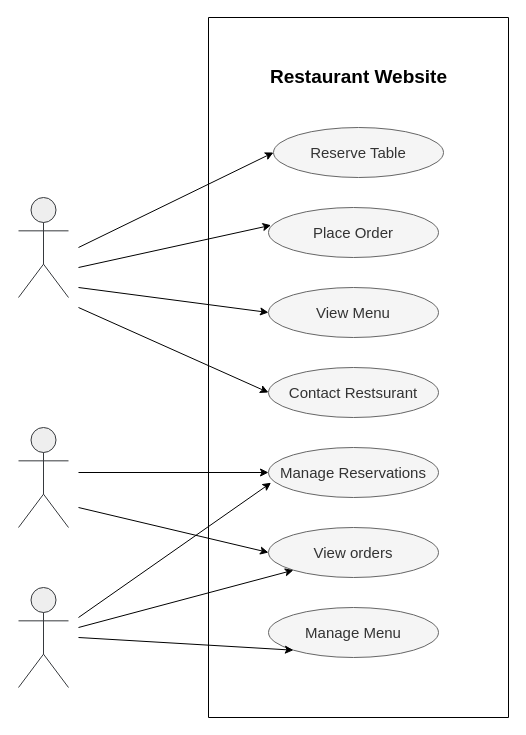
This 526x735 diagram has some shape labels left out. The centre of each missing label's shape, as x and y in pixels:
"Admin" goes at point 43,637.
"Customer" goes at point 43,247.
"Staff" goes at point 43,477.
